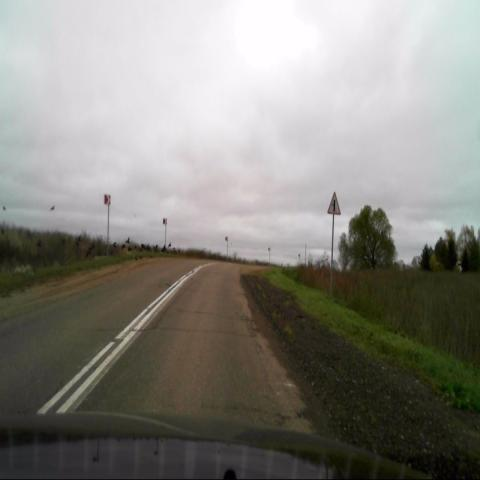2_3_3: (328, 190, 342, 215)
